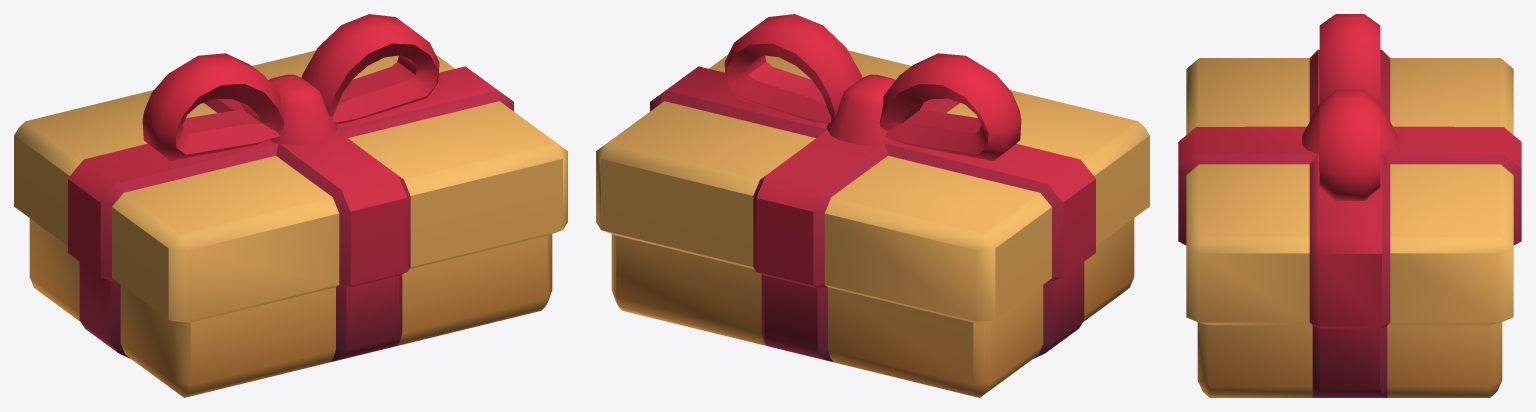
The model's file is present_C_yellow.obj.
3 renders of one model, left to right at view 1: azimuth 30°, elevation 25°; view 2: azimuth 150°, elevation 25°; view 3: azimuth 270°, elevation 25°, orthographic. The views are drawn at different scales.
Parts seen in each view (by area): view 1: present_C_yellow; view 2: present_C_yellow; view 3: present_C_yellow.
Boxes of the visible parts, x1,y1,x2,y2 form: present_C_yellow: (14,14,567,397); present_C_yellow: (596,14,1149,397); present_C_yellow: (1178,14,1521,397).
Size of the model in its own units: 0.7638 by 0.4617 by 0.5638.
1 material, 1 textured.
